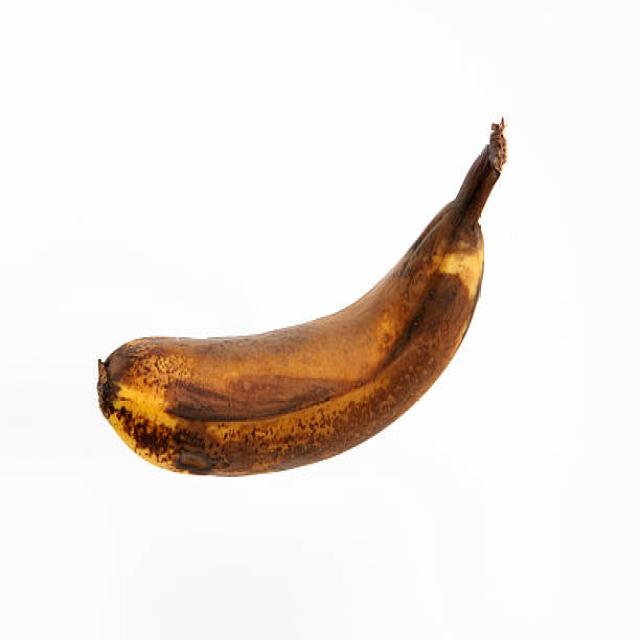overripe: (94, 122, 508, 485)
